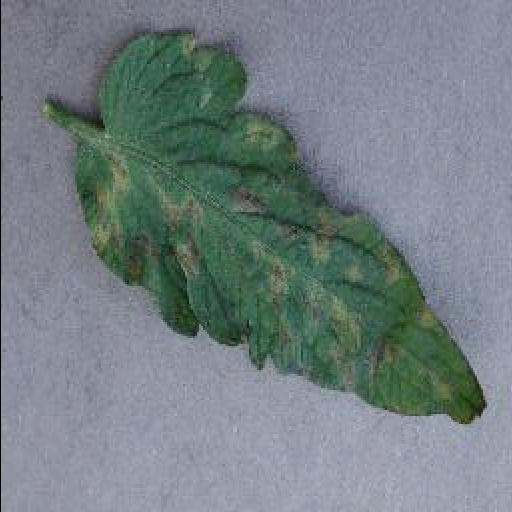disease_tomato: (69, 31, 487, 424)
